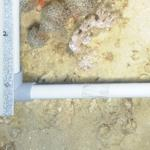dead: (3, 1, 147, 149)
